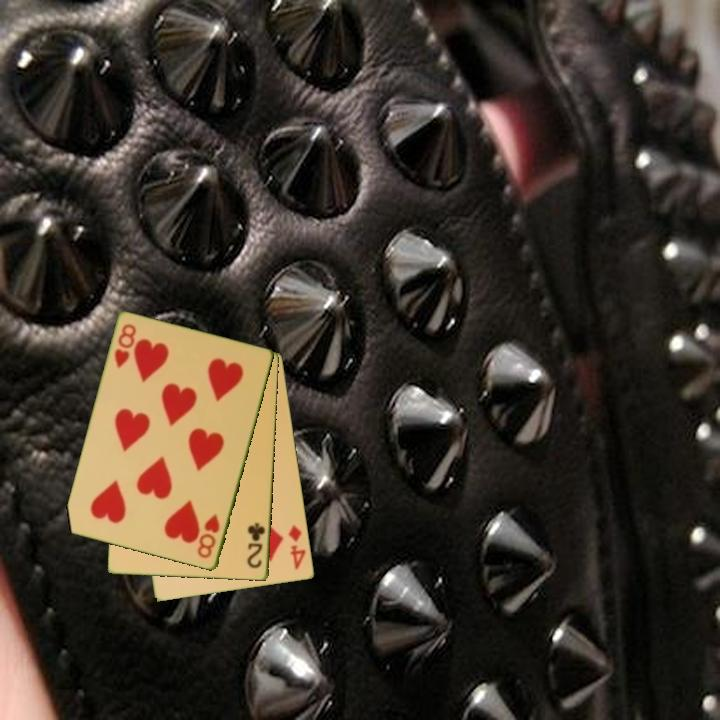2c: (244, 520, 268, 571)
4d: (285, 522, 309, 573)
8h: (194, 510, 223, 562), (111, 321, 139, 371)
